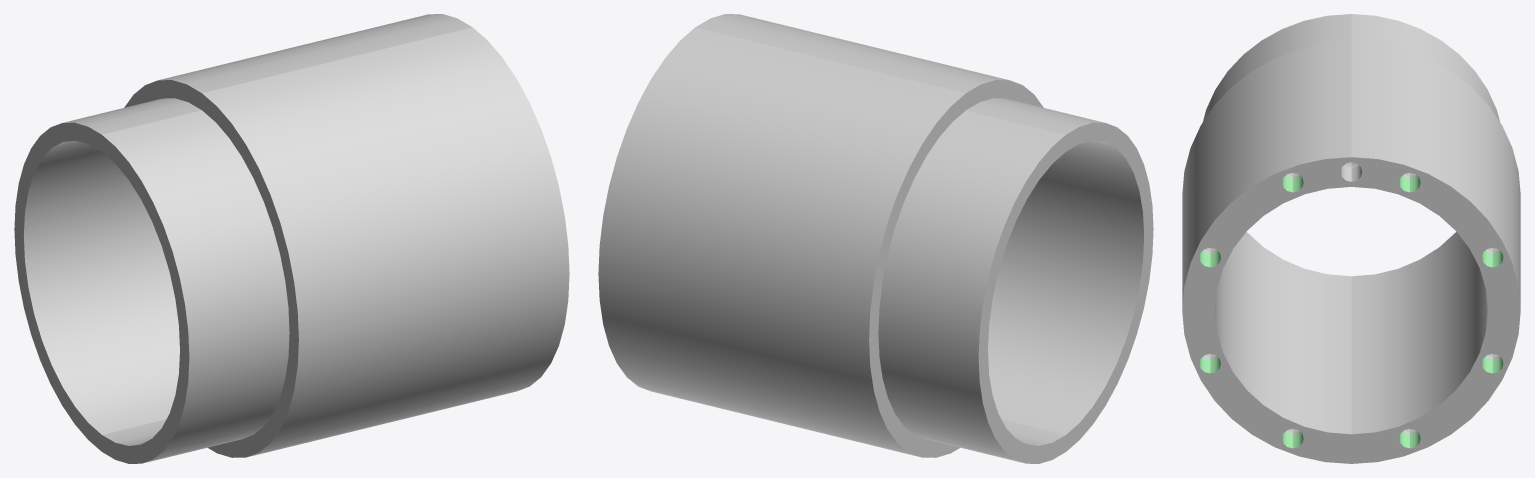
The picture shows the model from 3 angles, left to right: view 1: azimuth 30°, elevation 25°; view 2: azimuth 150°, elevation 25°; view 3: azimuth 270°, elevation 25°; orthographic projection. The views are drawn at different scales.
Visible parts, largest first — view 1: Mesh_0; view 2: Mesh_0; view 3: Mesh_0.
Boxes of the visible parts, box(x1,y1,x2,y2) form: Mesh_0: box(14, 14, 569, 463); Mesh_0: box(598, 14, 1153, 463); Mesh_0: box(1182, 14, 1520, 463).
Bounding box in the file's own units: 0.0685 × 0.062 × 0.062.
